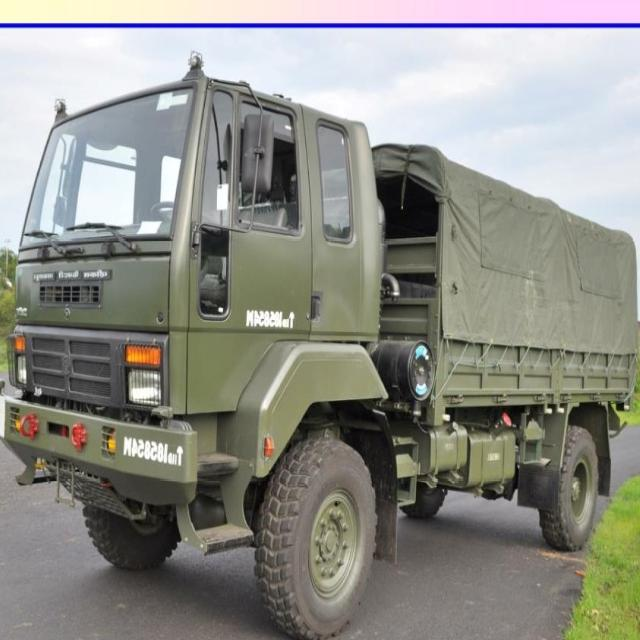truck: (0, 53, 636, 638)
